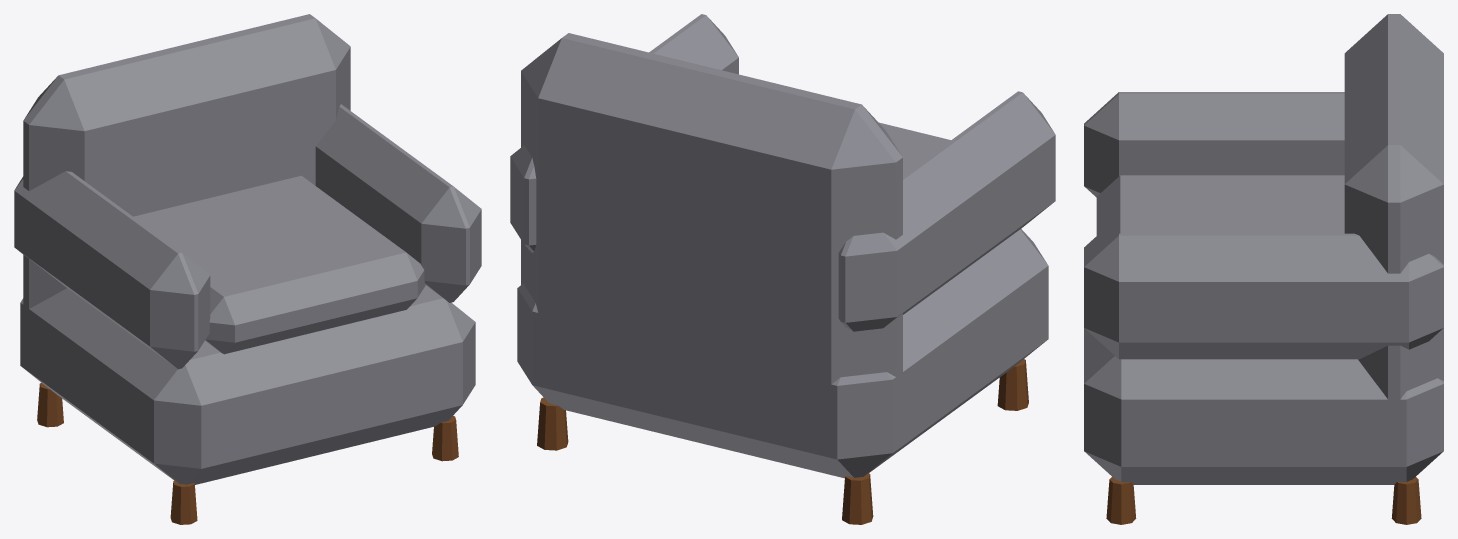
The model's file is GrayArmchair.fbx.
3 renders of one model, left to right at view 1: azimuth 30°, elevation 25°; view 2: azimuth 150°, elevation 25°; view 3: azimuth 270°, elevation 25°, orthographic. The views are drawn at different scales.
Parts seen in each view (by area): view 1: GrayArmchair; view 2: GrayArmchair; view 3: GrayArmchair.
Boxes of the visible parts, x1=… form: GrayArmchair: x1=14, y1=14, x2=481, y2=524; GrayArmchair: x1=510, y1=14, x2=1055, y2=524; GrayArmchair: x1=1084, y1=14, x2=1443, y2=524.
Bounding box in the file's own units: 3.3 × 3.3 × 2.9.
1 material, 1 textured.
